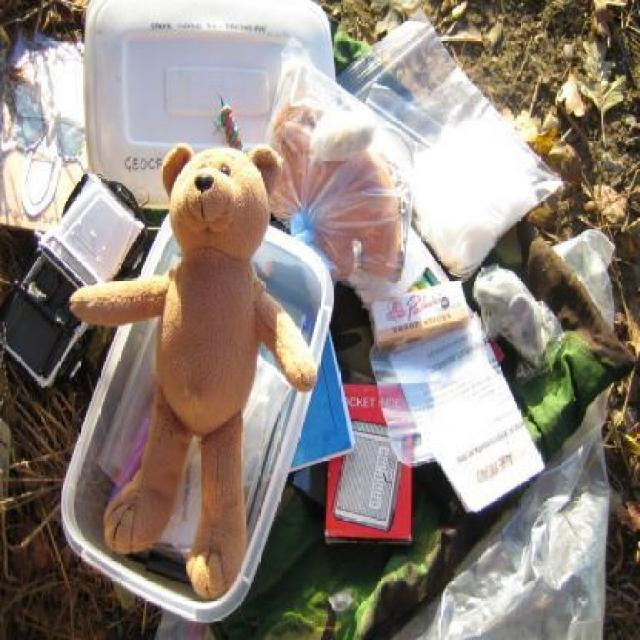plastic bag: (258, 31, 412, 280)
